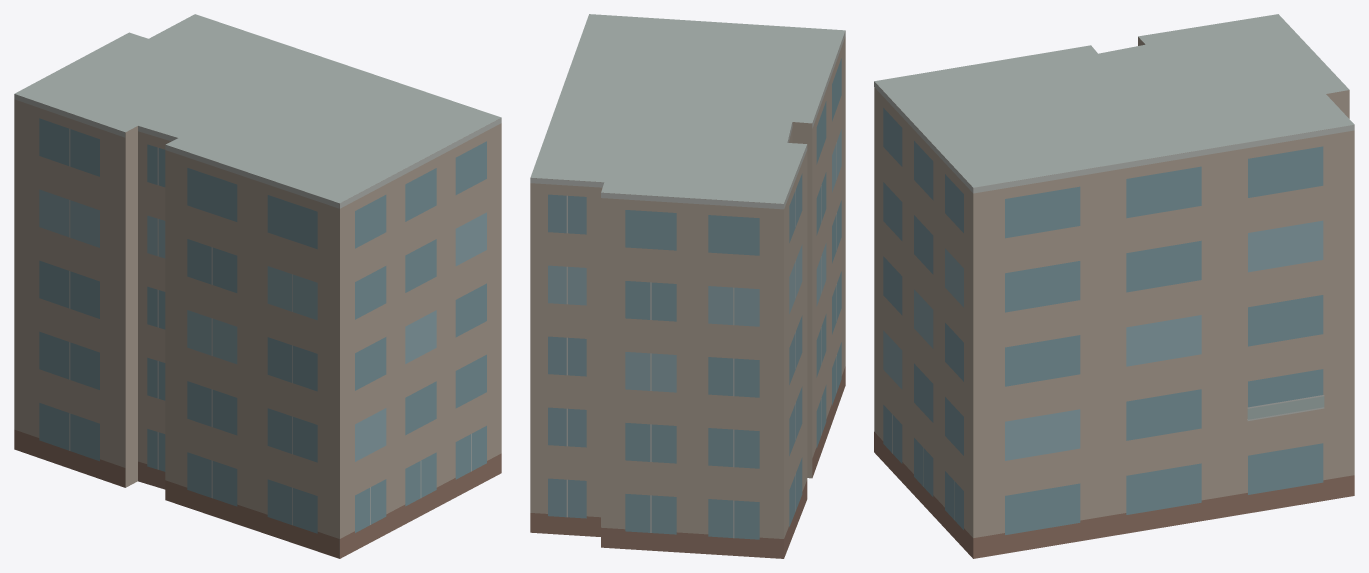
File: survey-upis-32752159.glb
3 renders of one model, left to right at view 1: azimuth 30°, elevation 25°; view 2: azimuth 150°, elevation 25°; view 3: azimuth 270°, elevation 25°, orthographic. The views are drawn at different scales.
Parts seen in each view (by area): view 1: survey-upis-32752159.tmp; view 2: survey-upis-32752159.tmp; view 3: survey-upis-32752159.tmp.
Boxes of the visible parts, x1=… form: survey-upis-32752159.tmp: x1=14, y1=14, x2=501, y2=558; survey-upis-32752159.tmp: x1=530, y1=14, x2=845, y2=558; survey-upis-32752159.tmp: x1=874, y1=14, x2=1354, y2=558.
Bounding box in the file's own units: 15.93 × 15.85 × 18.61.
